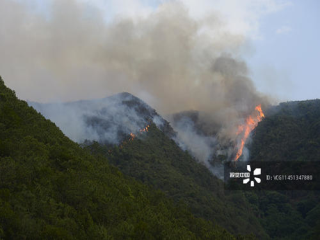fire: (233, 104, 266, 162), (125, 126, 151, 142)
smoke: (110, 15, 270, 118), (7, 5, 114, 154), (156, 51, 228, 170)
